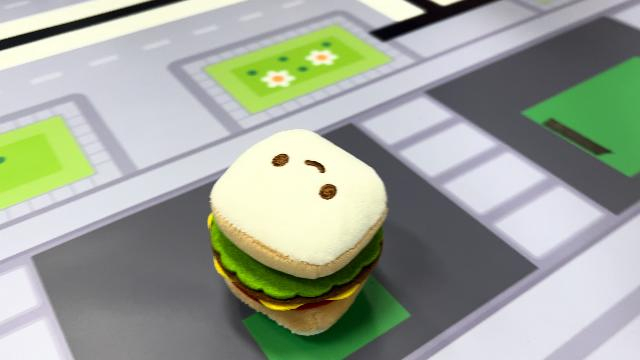sandwich: (205, 127, 391, 338)
